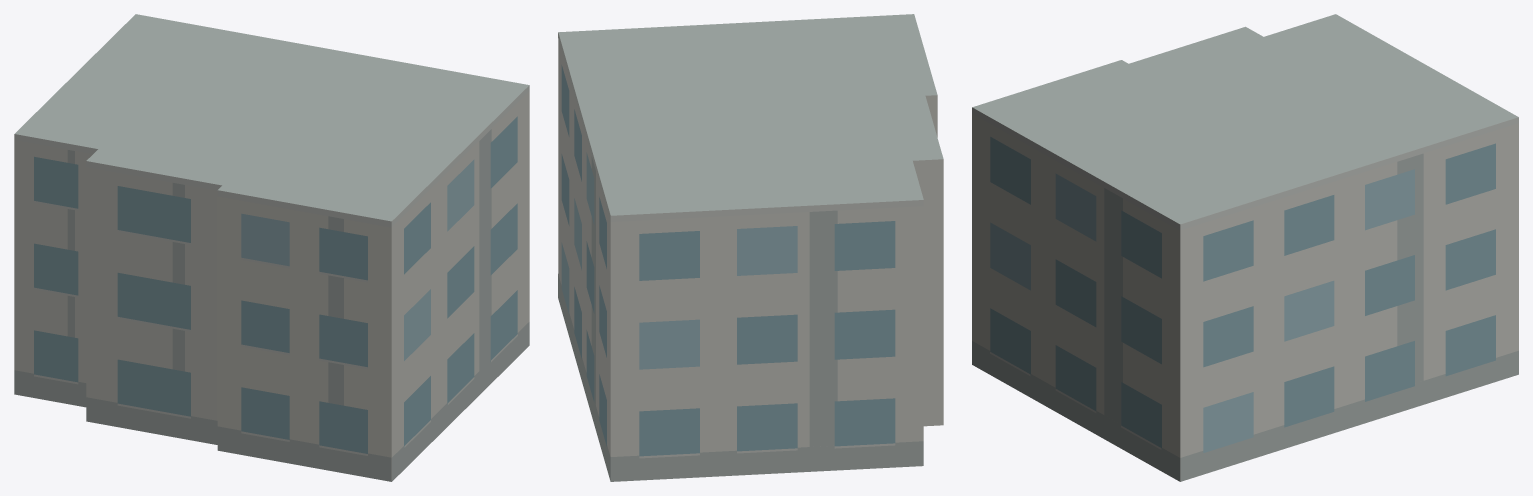
The model's file is residential-24e4e7af-eb77-4eb2-9191-a02a20bb8466.glb.
3 views of the same model, side by side, from view 1: azimuth 30°, elevation 25°; view 2: azimuth 150°, elevation 25°; view 3: azimuth 270°, elevation 25° (orthographic). The views are drawn at different scales.
Visible parts, largest first — view 1: residential-24e4e7af-eb77-4eb2-9191-a02a20bb8466.tmp; view 2: residential-24e4e7af-eb77-4eb2-9191-a02a20bb8466.tmp; view 3: residential-24e4e7af-eb77-4eb2-9191-a02a20bb8466.tmp.
Boxes of the visible parts, x1,y1,x2,y2 form: residential-24e4e7af-eb77-4eb2-9191-a02a20bb8466.tmp: [14, 14, 529, 481]; residential-24e4e7af-eb77-4eb2-9191-a02a20bb8466.tmp: [558, 14, 943, 481]; residential-24e4e7af-eb77-4eb2-9191-a02a20bb8466.tmp: [972, 14, 1518, 481].
Bounding box in the file's own units: 18.07 × 10.3 × 19.84.
